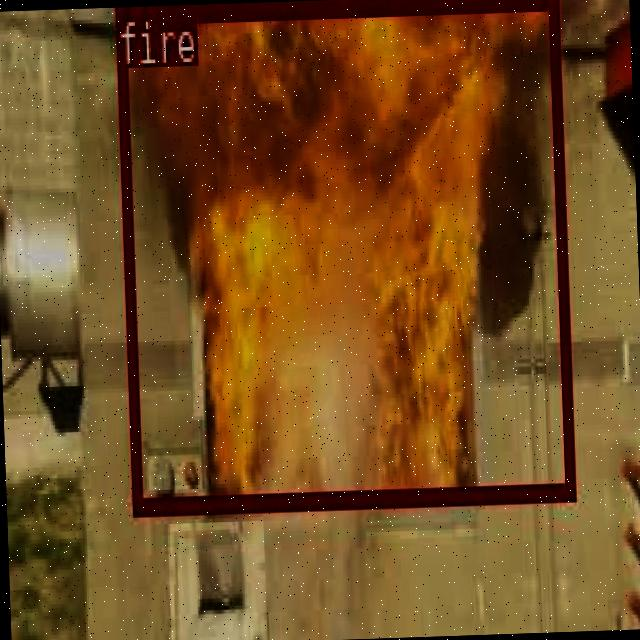fire: (114, 0, 571, 509)
